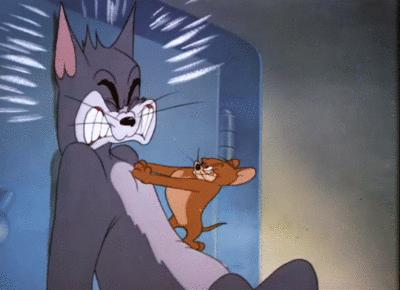jerry: (130, 153, 257, 253)
